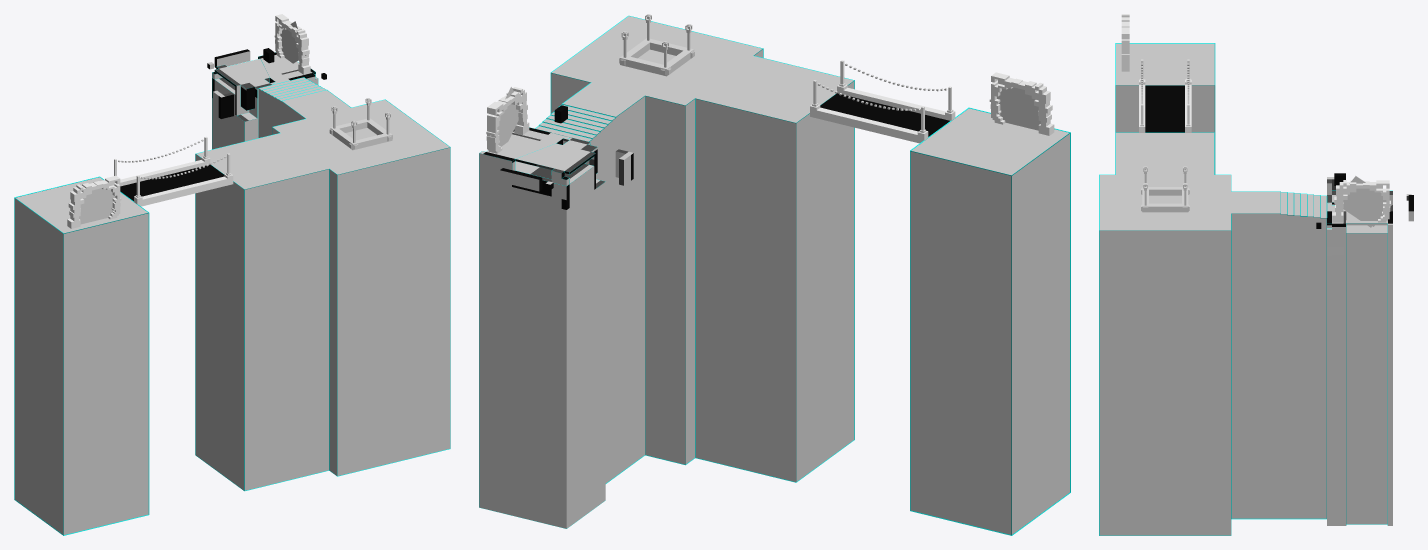
File: Test Outline + arrivée fragmentée.fbx
3 renders of one model, left to right at view 1: azimuth 30°, elevation 25°; view 2: azimuth 150°, elevation 25°; view 3: azimuth 270°, elevation 25°, orthographic. The views are drawn at different scales.
Parts seen in each view (by area): view 1: Dice Zone Floor 1, Central Hall Floor, Dice Zone Floor 2, Arrival Floor, Outline, Dice Zone Floor 2 Outlines, Stairs, Bridge Planks.001, Link to Hub, Reception.001, Ark Dice.001, Bridge Railing Left.001 (+4 smaller); view 2: Dice Zone Floor 2, Dice Zone Floor 1, Arrival Floor, Central Hall Floor, Link to Hub, Stairs, Outline, Bridge Planks.001, Reception.001, Dice Zone Floor 2 Outlines, Ark Dice.001, Bridge Railing Right.001 (+4 smaller); view 3: Central Hall Floor, Arrival Floor, Link to Hub, Stairs, Dice Zone Floor 2, Dice Zone Floor 1, Outline, Bridge Planks.001, Reception.001, Veil Arrival.001, Ark Arrival.001, Outlines (+4 smaller).
Boxes of the visible parts, box(x1,y1,x2,y2) form: Dice Zone Floor 1: box(196, 133, 328, 490); Central Hall Floor: box(272, 100, 450, 475); Dice Zone Floor 2: box(15, 177, 148, 534); Arrival Floor: box(212, 52, 317, 149); Outline: box(195, 77, 450, 491); Dice Zone Floor 2 Outlines: box(14, 176, 149, 535); Stairs: box(259, 77, 325, 137); Bridge Planks.001: box(120, 164, 224, 200); Link to Hub: box(281, 90, 350, 124); Reception.001: box(329, 98, 392, 150); Ark Dice.001: box(67, 175, 121, 228); Bridge Railing Left.001: box(134, 153, 233, 206); Dice Zone Floor 2: box(910, 108, 1069, 534); Dice Zone Floor 1: box(695, 56, 854, 481); Arrival Floor: box(479, 127, 605, 528); Central Hall Floor: box(551, 16, 762, 464); Link to Hub: box(563, 82, 644, 475); Stairs: box(535, 105, 615, 483); Outline: box(535, 15, 854, 483); Bridge Planks.001: box(820, 93, 949, 136); Reception.001: box(619, 14, 694, 76); Dice Zone Floor 2 Outlines: box(910, 107, 1070, 535); Ark Dice.001: box(989, 72, 1054, 135); Bridge Railing Right.001: box(810, 80, 928, 143); Central Hall Floor: box(1099, 174, 1231, 535); Arrival Floor: box(1327, 191, 1392, 525); Link to Hub: box(1231, 191, 1280, 518); Stairs: box(1280, 192, 1326, 518); Dice Zone Floor 2: box(1116, 43, 1214, 132); Dice Zone Floor 1: box(1116, 133, 1214, 174); Outline: box(1099, 132, 1327, 535); Bridge Planks.001: box(1145, 85, 1184, 132); Reception.001: box(1141, 166, 1189, 212); Veil Arrival.001: box(1334, 176, 1391, 227); Ark Arrival.001: box(1332, 180, 1390, 222); Outlines: box(1327, 190, 1392, 525).
Bounding box in the file's own units: 13421 × 11581 × 9538.
